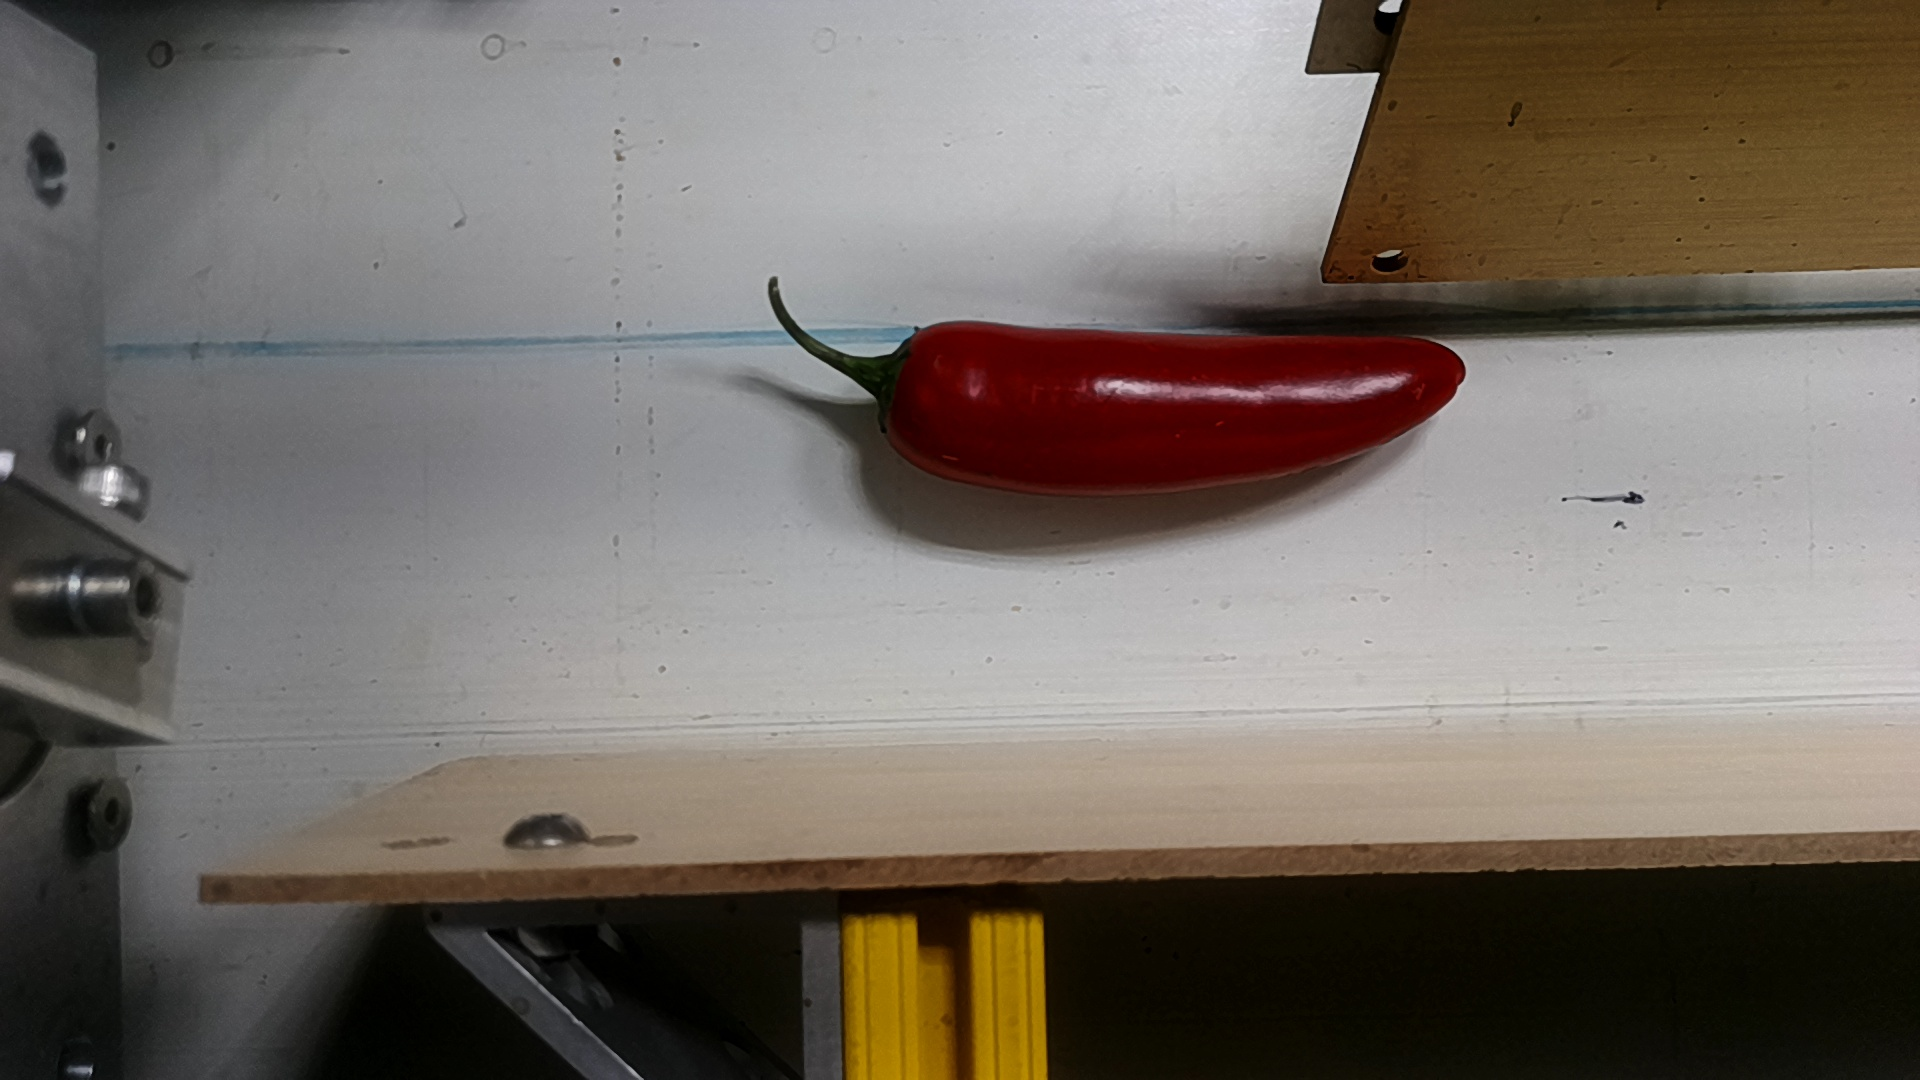Cut Point: (843, 315, 967, 472)
